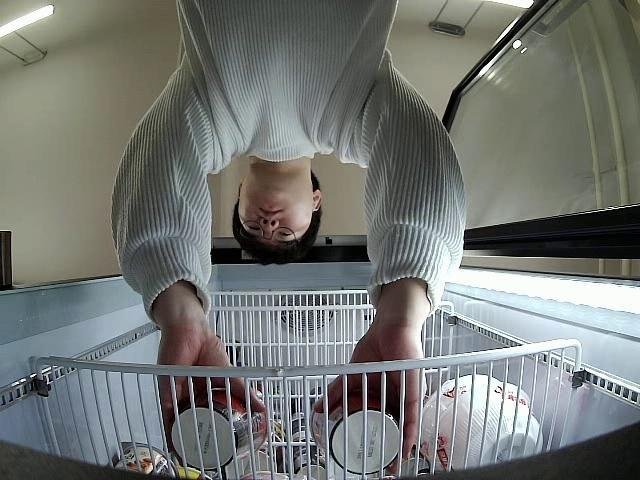02_shinRamen_S: (170, 388, 269, 470), (307, 390, 403, 474)
